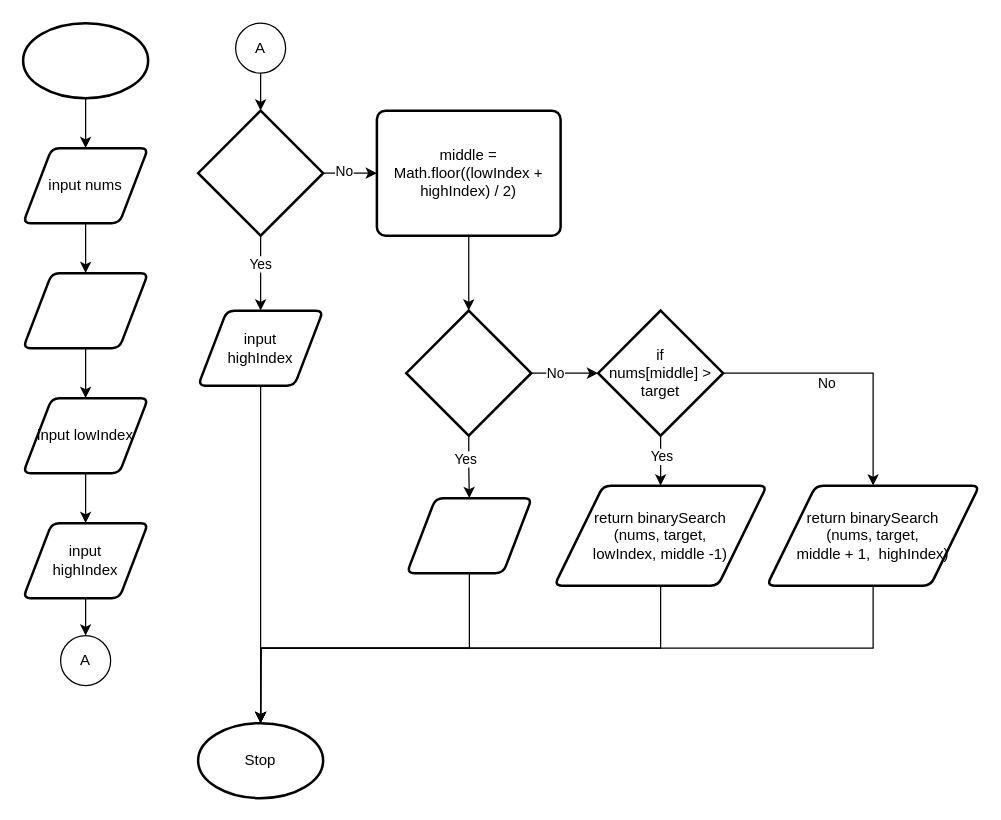
Image size: 1001x820. Some labels were removed from this diagram. Here are the shapes that lost their labels. From the top down, the centre of each, then its label:
At point 85,60: "Start".
At point 260,172: "if lowIndex > highIndex".
At point 85,310: "input target".
At point 468,372: "if nums[middle] === target".
At point 468,535: "return middle".
